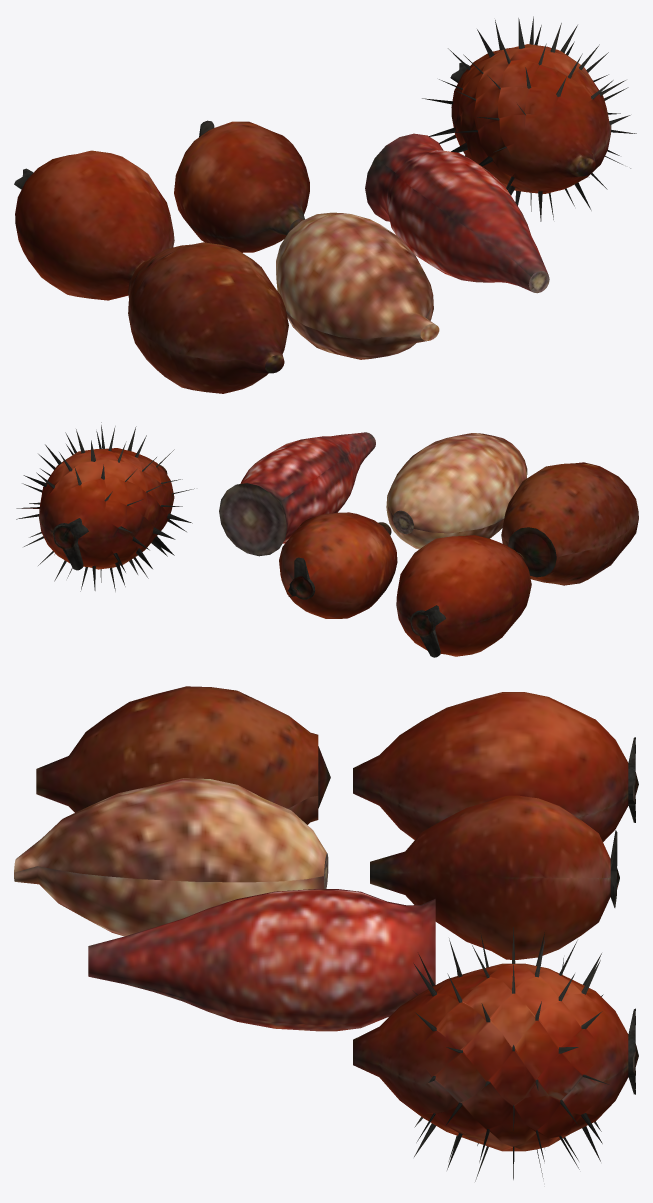
The model's file is jinyingzi.FBX.
3 views of the same model, one above another, from view 1: azimuth 30°, elevation 25°; view 2: azimuth 150°, elevation 25°; view 3: azimuth 270°, elevation 25° (orthographic). The views are drawn at different scales.
Parts seen in each view (by area): view 1: Cylinder006, Cylinder003, Cylinder005, Cylinder001, Cylinder004, Cylinder002; view 2: Cylinder006, Cylinder001, Cylinder003, Cylinder005, Cylinder004, Cylinder002; view 3: Cylinder006, Cylinder004, Cylinder005, Cylinder001, Cylinder002, Cylinder003.
Boxes of the visible parts, x1,y1,x2,y2 form: Cylinder006: (422, 16, 636, 221); Cylinder003: (128, 242, 288, 393); Cylinder005: (276, 212, 439, 359); Cylinder001: (14, 150, 174, 300); Cylinder004: (365, 133, 549, 293); Cylinder002: (174, 120, 309, 252); Cylinder006: (16, 422, 194, 591); Cylinder001: (396, 535, 531, 657); Cylinder003: (501, 462, 638, 585); Cylinder005: (386, 433, 527, 549); Cylinder004: (219, 432, 375, 556); Cylinder002: (279, 512, 397, 618); Cylinder006: (353, 927, 638, 1181); Cylinder004: (88, 889, 435, 1031); Cylinder005: (14, 778, 328, 936); Cylinder001: (353, 692, 638, 841); Cylinder002: (370, 795, 619, 959); Cylinder003: (36, 686, 330, 824).
Bounding box in the file's own units: 52.65 × 15.83 × 37.12.
Materials: 1 (1 with a texture image).
